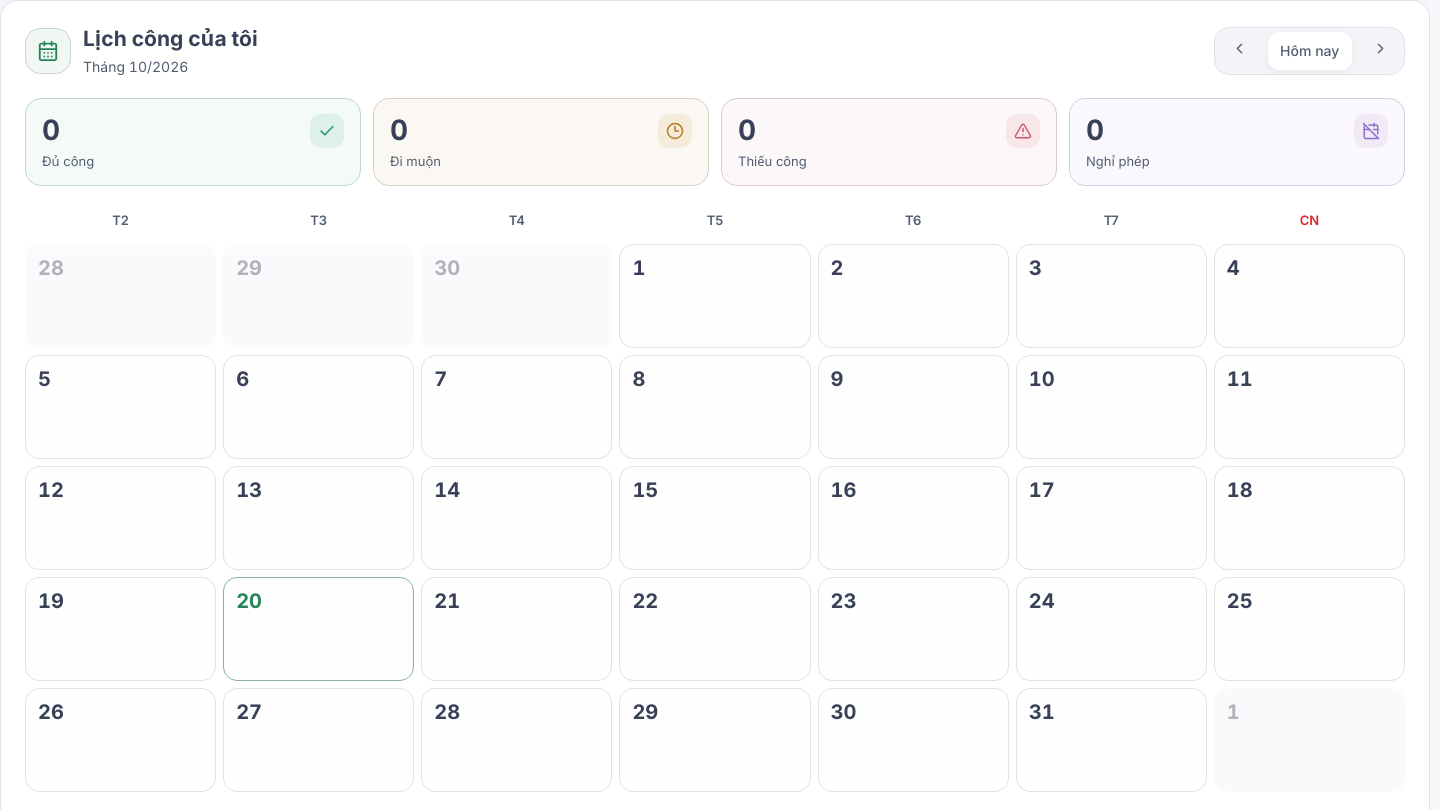
Test case: personal attendance calendar › opens a day without check-in or check-out records
Click the 1st button "1" at (715, 296), box [619,244,810,348]
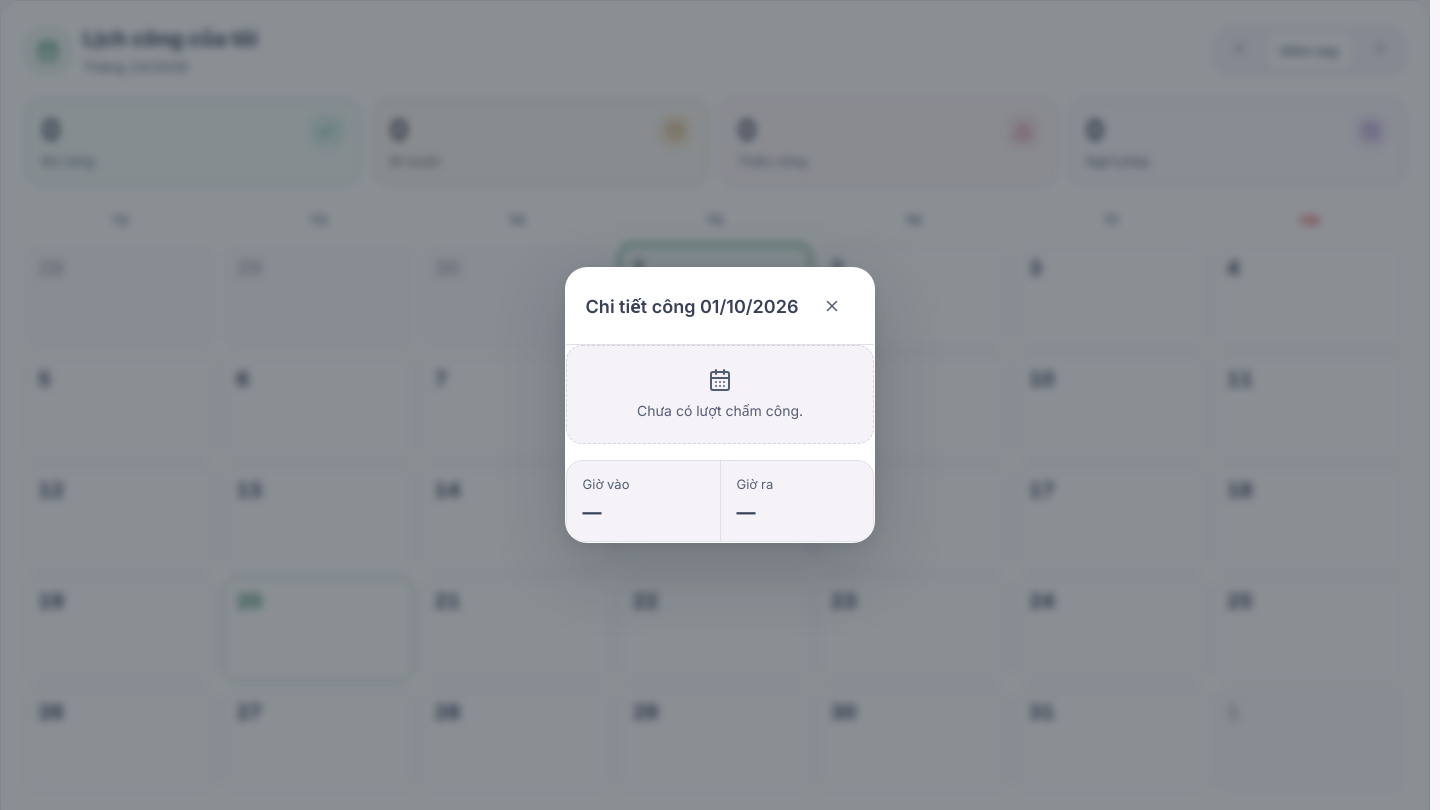
Expected: the text "Chưa có lượt chấm công." is shown, [637,401,803,421]
Expected: the text "Giờ vào" is shown, [583,475,630,494]
Expected: the text "Giờ ra" is shown, [736,475,773,494]
